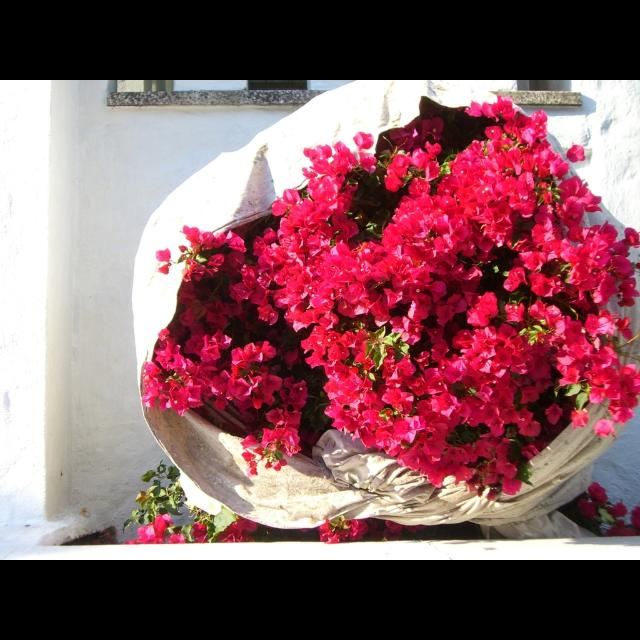Flower: (136, 90, 640, 500), (296, 322, 369, 376), (124, 518, 260, 544), (318, 522, 420, 544), (590, 482, 612, 508), (604, 522, 636, 536), (576, 498, 594, 520), (611, 499, 629, 517), (630, 504, 640, 528), (157, 250, 171, 262)
